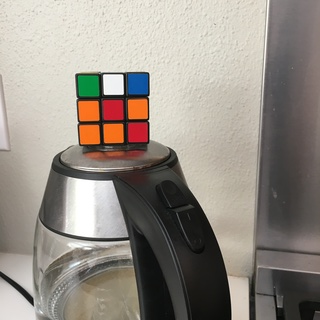face: (76, 71, 149, 145)
